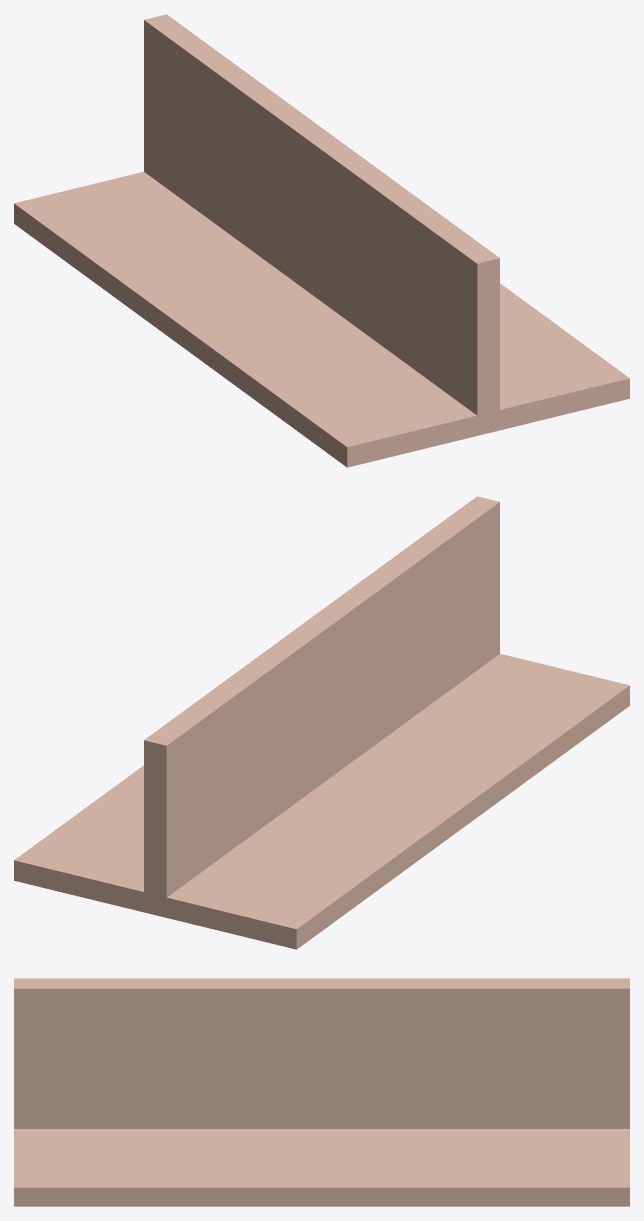
Rendered from SHELF.fbx.
3 views of the same model, one above another, from view 1: azimuth 30°, elevation 25°; view 2: azimuth 150°, elevation 25°; view 3: azimuth 270°, elevation 25° (orthographic). The views are drawn at different scales.
Parts seen in each view (by area): view 1: polySurface18; view 2: polySurface18; view 3: polySurface18.
Part boxes in pixels (x1,y1,x2,y2): polySurface18: [14, 14, 629, 467]; polySurface18: [14, 496, 629, 949]; polySurface18: [14, 978, 629, 1206].
Size of the model in its own units: 1.02 by 0.5948 by 2.09.
